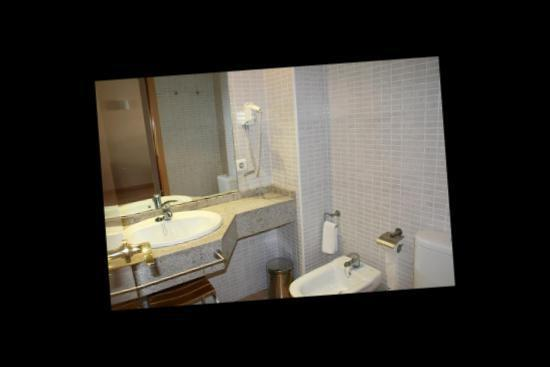Bote de Basura: (264, 252, 299, 299)
Lavamanos: (126, 190, 229, 249), (283, 251, 383, 297)
Sanitario: (405, 220, 455, 288)
